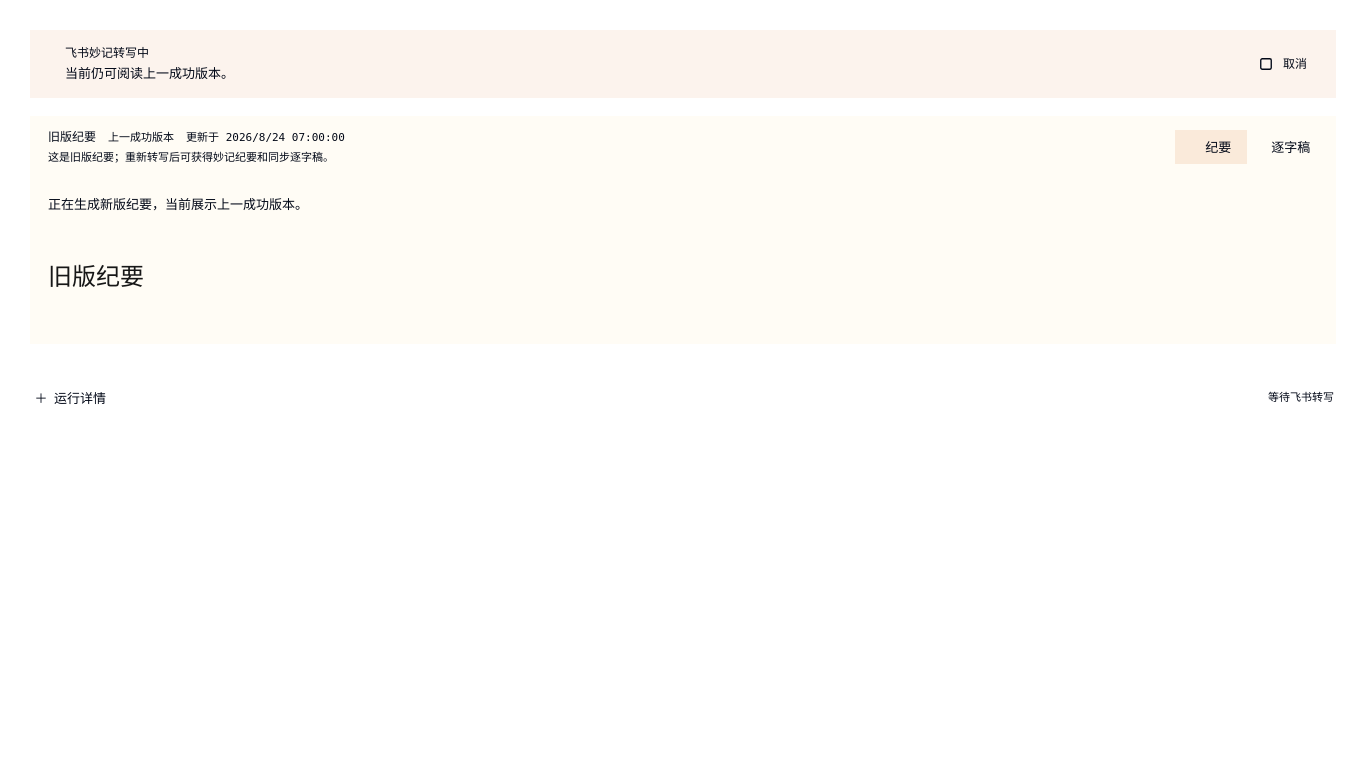
Test: EpisodeProcessingPanel › keeps the last successful schedule visible when a processing poll refresh fails
Click the heading "运行详情 等待飞书转写".
click(80, 398)  # box [54,390,1334,406]
Wait 4000 ms
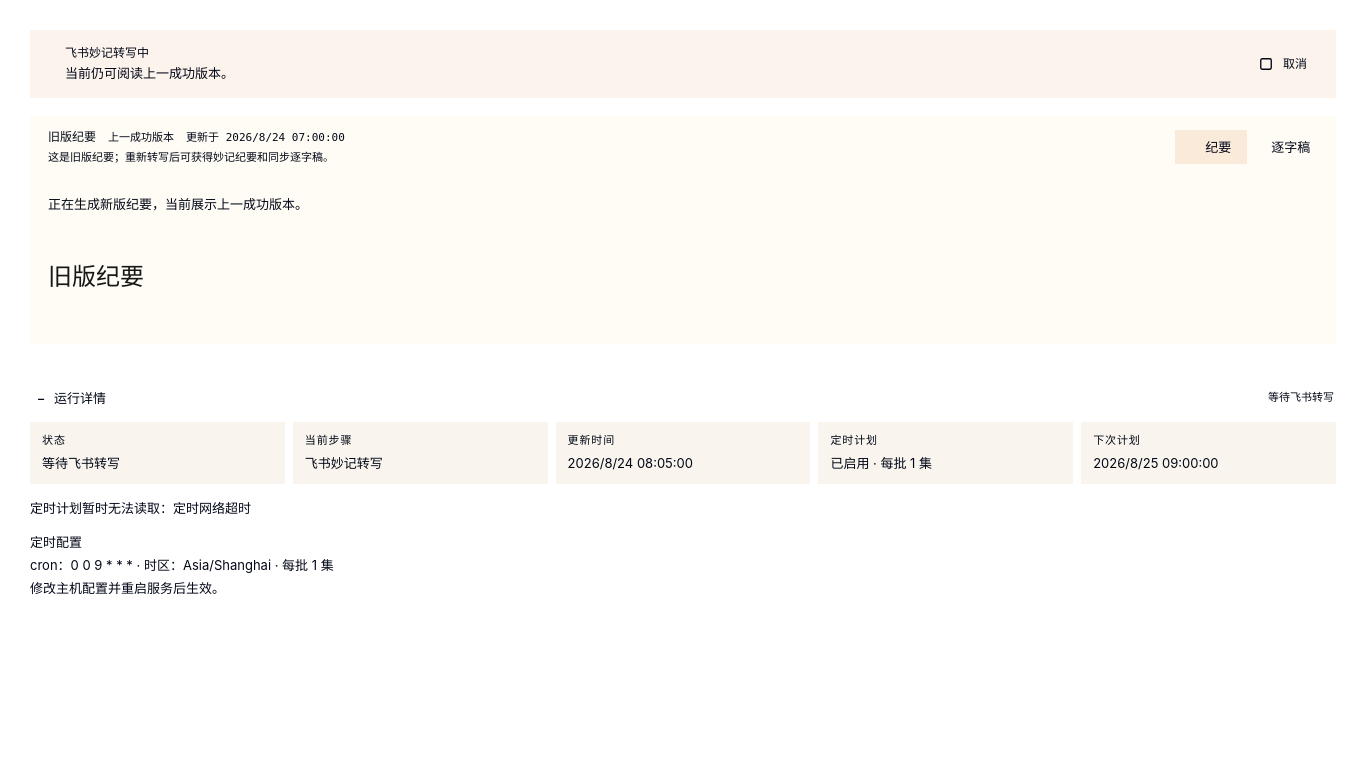
Check: the text "定时计划暂时无法读取：定时网络超时" is shown, box [30,500,251,516]
Check: the text "已启用 · 每批 1 集" is shown, box [830,455,932,471]
